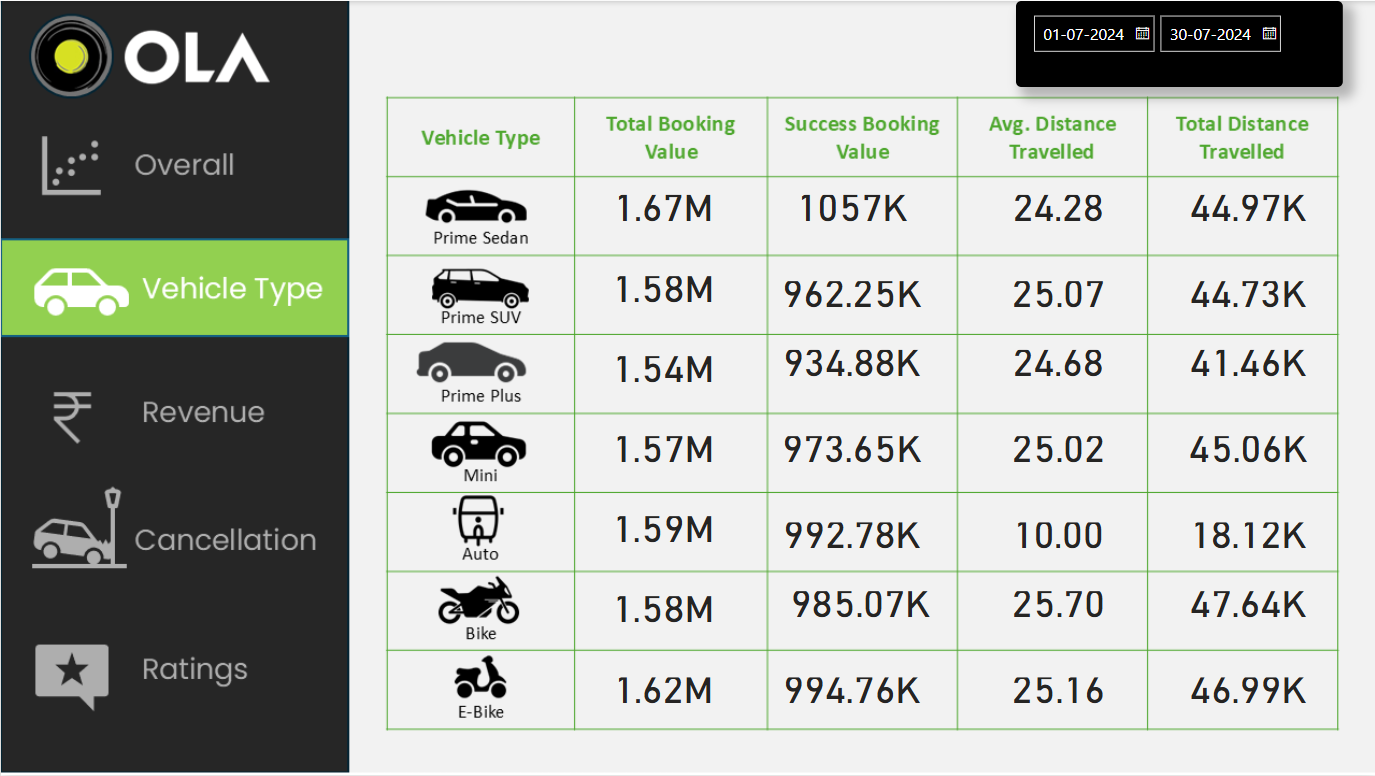

Layout of this report page (visuals, bound fields, positions):
{"tool":"powerbi","page":{"name":"Vehicle Type","canvas":[1280,720],"ordinal":1},"visuals":[{"type":"actionButton","box":[0,224,320,96],"z":0},{"type":"actionButton","box":[0,336,320,96],"z":1000},{"type":"actionButton","box":[0,464,320,80],"z":2000},{"type":"actionButton","box":[0,592,320,80],"z":3000},{"type":"actionButton","box":[0,112,320,80],"z":4000},{"type":"card","fields":{"Values":["Sum(ola bookings.Booking_Value)"]},"box":[544,176,144,48],"z":5000},{"type":"card","fields":{"Values":["Sum(ola bookings.Booking_Value)"]},"box":[544,250.7,144,48],"z":6000},{"type":"card","fields":{"Values":["Sum(ola bookings.Booking_Value)"]},"box":[544,325.3,144,48],"z":7000},{"type":"card","fields":{"Values":["Sum(ola bookings.Booking_Value)"]},"box":[544,400,144,48],"z":8000},{"type":"card","fields":{"Values":["Sum(ola bookings.Booking_Value)"]},"box":[544,474.7,144,48],"z":9000},{"type":"card","fields":{"Values":["Sum(ola bookings.Booking_Value)"]},"box":[544,549.3,144,48],"z":10000},{"type":"card","fields":{"Values":["Sum(ola bookings.Booking_Value)"]},"box":[544,624,144,48],"z":11000},{"type":"card","fields":{"Values":["Sum(ola bookings.Booking_Value)"]},"box":[720,480,144,48],"z":12000},{"type":"card","fields":{"Values":["Sum(ola bookings.Booking_Value)"]},"box":[720,544,160,48],"z":13000},{"type":"card","fields":{"Values":["Sum(ola bookings.Booking_Value)"]},"box":[720,400,144,48],"z":14000},{"type":"card","fields":{"Values":["Sum(ola bookings.Booking_Value)"]},"box":[720,320,144,48],"z":15000},{"type":"card","fields":{"Values":["Sum(ola bookings.Booking_Value)"]},"box":[720,256,144,48],"z":16000},{"type":"card","fields":{"Values":["Sum(ola bookings.Booking_Value)"]},"box":[720,176,144,48],"z":17000},{"type":"card","fields":{"Values":["Sum(ola bookings.Booking_Value)"]},"box":[720,624,144,48],"z":18000},{"type":"card","fields":{"Values":["Avg(ola bookings.Ride_Distance)"]},"box":[912,176,144,48],"z":19000},{"type":"card","fields":{"Values":["Avg(ola bookings.Ride_Distance)"]},"box":[912,256,144,48],"z":20000},{"type":"card","fields":{"Values":["Avg(ola bookings.Ride_Distance)"]},"box":[912,320,144,48],"z":21000},{"type":"card","fields":{"Values":["Avg(ola bookings.Ride_Distance)"]},"box":[912,400,144,48],"z":22000},{"type":"card","fields":{"Values":["Avg(ola bookings.Ride_Distance)"]},"box":[912,480,144,48],"z":23000},{"type":"card","fields":{"Values":["Avg(ola bookings.Ride_Distance)"]},"box":[912,544,144,48],"z":24000},{"type":"card","fields":{"Values":["Avg(ola bookings.Ride_Distance)"]},"box":[912,624,144,48],"z":25000},{"type":"card","fields":{"Values":["Sum(ola bookings.Ride_Distance)"]},"box":[1088,176,144,48],"z":26000},{"type":"card","fields":{"Values":["Sum(ola bookings.Ride_Distance)"]},"box":[1088,256,144,48],"z":27000},{"type":"card","fields":{"Values":["Sum(ola bookings.Ride_Distance)"]},"box":[1088,320,144,48],"z":28000},{"type":"card","fields":{"Values":["Sum(ola bookings.Ride_Distance)"]},"box":[1088,400,144,48],"z":29000},{"type":"card","fields":{"Values":["Sum(ola bookings.Ride_Distance)"]},"box":[1088,480,144,48],"z":30000},{"type":"card","fields":{"Values":["Sum(ola bookings.Ride_Distance)"]},"box":[1088,544,144,48],"z":31000},{"type":"card","fields":{"Values":["Sum(ola bookings.Ride_Distance)"]},"box":[1088,624,144,48],"z":32000},{"type":"slicer","title":"Date","fields":{"Values":["ola bookings.Date"]},"box":[944,0,304,80],"z":33000}]}

Visuals, with their boxes on the page's 1280x720 design canvas (x1, y1, x2, y2). These are canvas units, not pixel positions in the 1375x776 screenshot, which may show the page scaled, cropped or inside an application window:
actionButton: <bbox>0, 224, 320, 320</bbox>
actionButton: <bbox>0, 336, 320, 432</bbox>
actionButton: <bbox>0, 464, 320, 544</bbox>
actionButton: <bbox>0, 592, 320, 672</bbox>
actionButton: <bbox>0, 112, 320, 192</bbox>
card - Sum(ola bookings.Booking_Value): <bbox>544, 176, 688, 224</bbox>
card - Sum(ola bookings.Booking_Value): <bbox>544, 251, 688, 299</bbox>
card - Sum(ola bookings.Booking_Value): <bbox>544, 325, 688, 373</bbox>
card - Sum(ola bookings.Booking_Value): <bbox>544, 400, 688, 448</bbox>
card - Sum(ola bookings.Booking_Value): <bbox>544, 475, 688, 523</bbox>
card - Sum(ola bookings.Booking_Value): <bbox>544, 549, 688, 597</bbox>
card - Sum(ola bookings.Booking_Value): <bbox>544, 624, 688, 672</bbox>
card - Sum(ola bookings.Booking_Value): <bbox>720, 480, 864, 528</bbox>
card - Sum(ola bookings.Booking_Value): <bbox>720, 544, 880, 592</bbox>
card - Sum(ola bookings.Booking_Value): <bbox>720, 400, 864, 448</bbox>
card - Sum(ola bookings.Booking_Value): <bbox>720, 320, 864, 368</bbox>
card - Sum(ola bookings.Booking_Value): <bbox>720, 256, 864, 304</bbox>
card - Sum(ola bookings.Booking_Value): <bbox>720, 176, 864, 224</bbox>
card - Sum(ola bookings.Booking_Value): <bbox>720, 624, 864, 672</bbox>
card - Avg(ola bookings.Ride_Distance): <bbox>912, 176, 1056, 224</bbox>
card - Avg(ola bookings.Ride_Distance): <bbox>912, 256, 1056, 304</bbox>
card - Avg(ola bookings.Ride_Distance): <bbox>912, 320, 1056, 368</bbox>
card - Avg(ola bookings.Ride_Distance): <bbox>912, 400, 1056, 448</bbox>
card - Avg(ola bookings.Ride_Distance): <bbox>912, 480, 1056, 528</bbox>
card - Avg(ola bookings.Ride_Distance): <bbox>912, 544, 1056, 592</bbox>
card - Avg(ola bookings.Ride_Distance): <bbox>912, 624, 1056, 672</bbox>
card - Sum(ola bookings.Ride_Distance): <bbox>1088, 176, 1232, 224</bbox>
card - Sum(ola bookings.Ride_Distance): <bbox>1088, 256, 1232, 304</bbox>
card - Sum(ola bookings.Ride_Distance): <bbox>1088, 320, 1232, 368</bbox>
card - Sum(ola bookings.Ride_Distance): <bbox>1088, 400, 1232, 448</bbox>
card - Sum(ola bookings.Ride_Distance): <bbox>1088, 480, 1232, 528</bbox>
card - Sum(ola bookings.Ride_Distance): <bbox>1088, 544, 1232, 592</bbox>
card - Sum(ola bookings.Ride_Distance): <bbox>1088, 624, 1232, 672</bbox>
"Date" slicer: <bbox>944, 0, 1248, 80</bbox>
